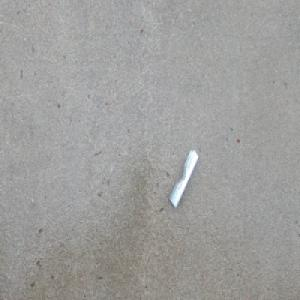ClampPart: (169, 148, 198, 209)
